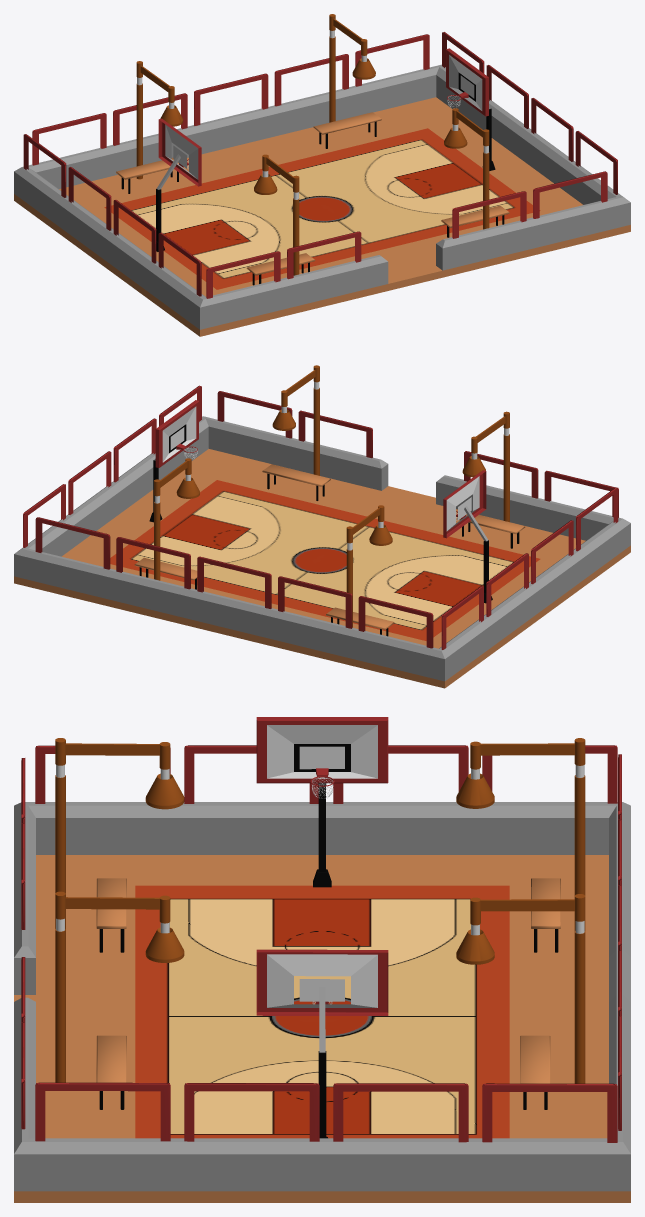
Rendered from BASKET BALL COURT.fbx.
The picture shows the model from 3 angles, top to bottom: view 1: azimuth 30°, elevation 25°; view 2: azimuth 150°, elevation 25°; view 3: azimuth 270°, elevation 25°; orthographic projection. The views are drawn at different scales.
Visible parts, largest first — view 1: Cube, Plane, Cube.012, Cube.013, Cube.014, Plane.001, Plane.003, Cube.011, Cube.010, Cube.007, Cube.006, Cube.003 (+6 smaller); view 2: Cube, Plane, Cube.012, Cube.013, Cube.014, Plane.001, Plane.003, Cube.003, Cube.004, Cube.011, Cube.007, Cube.010 (+6 smaller); view 3: Cube, Plane, Cube.014, Plane.003, Plane.001, Cube.007, Cube.003, Cube.013, Cube.006, Cube.004, Cylinder.007, Cube.005 (+7 smaller).
Boxes of the visible parts, x1,y1,x2,y2 form: Cube: (14, 64, 630, 336); Plane: (104, 128, 540, 289); Cube.012: (32, 34, 429, 165); Cube.013: (23, 134, 201, 296); Cube.014: (442, 32, 617, 194); Plane.001: (446, 48, 488, 116); Plane.003: (158, 118, 201, 186); Cube.011: (452, 171, 607, 238); Cube.010: (206, 231, 361, 298); Cube.007: (329, 14, 375, 132); Cube.006: (136, 61, 183, 179); Cube.003: (444, 108, 489, 229); Cube: (14, 416, 630, 688); Plane: (110, 480, 540, 640); Cube.012: (35, 517, 433, 648); Cube.013: (441, 487, 618, 649); Cube.014: (23, 385, 201, 547); Plane.001: (155, 400, 198, 467); Plane.003: (443, 470, 486, 538); Cube.003: (272, 365, 319, 475); Cube.004: (462, 411, 509, 522); Cube.011: (217, 391, 372, 458); Cube.007: (154, 458, 199, 580); Cube.010: (464, 451, 618, 517); Cube: (14, 802, 630, 1202); Plane: (135, 885, 509, 1138); Cube.014: (35, 1082, 617, 1142); Plane.003: (256, 717, 388, 783); Plane.001: (256, 949, 388, 1015); Cube.007: (456, 894, 585, 1083); Cube.003: (55, 891, 184, 1082); Cube.013: (35, 745, 617, 803); Cube.006: (456, 738, 585, 931); Cube.004: (55, 738, 184, 929); Cylinder.007: (96, 1035, 126, 1109); Cube.005: (520, 1035, 550, 1083).
Bounding box in the file's own units: 2613 × 712 × 1954.
